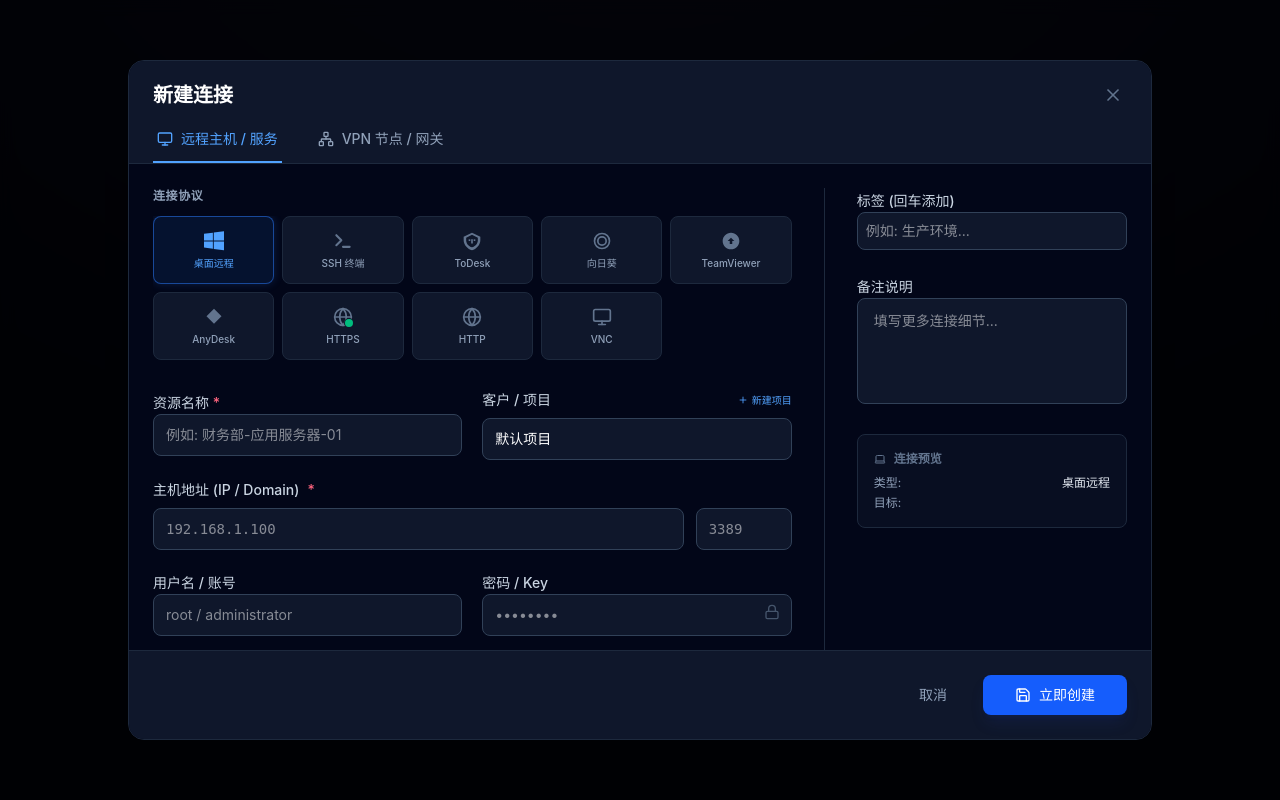
Test: ConnectionModal（T5） › 必填缺失 → toast 校验失败，不提交
The width and height of the screenshot is (1280, 800).
Click the button "立即创建" at (1055, 695), box [983, 675, 1127, 715]
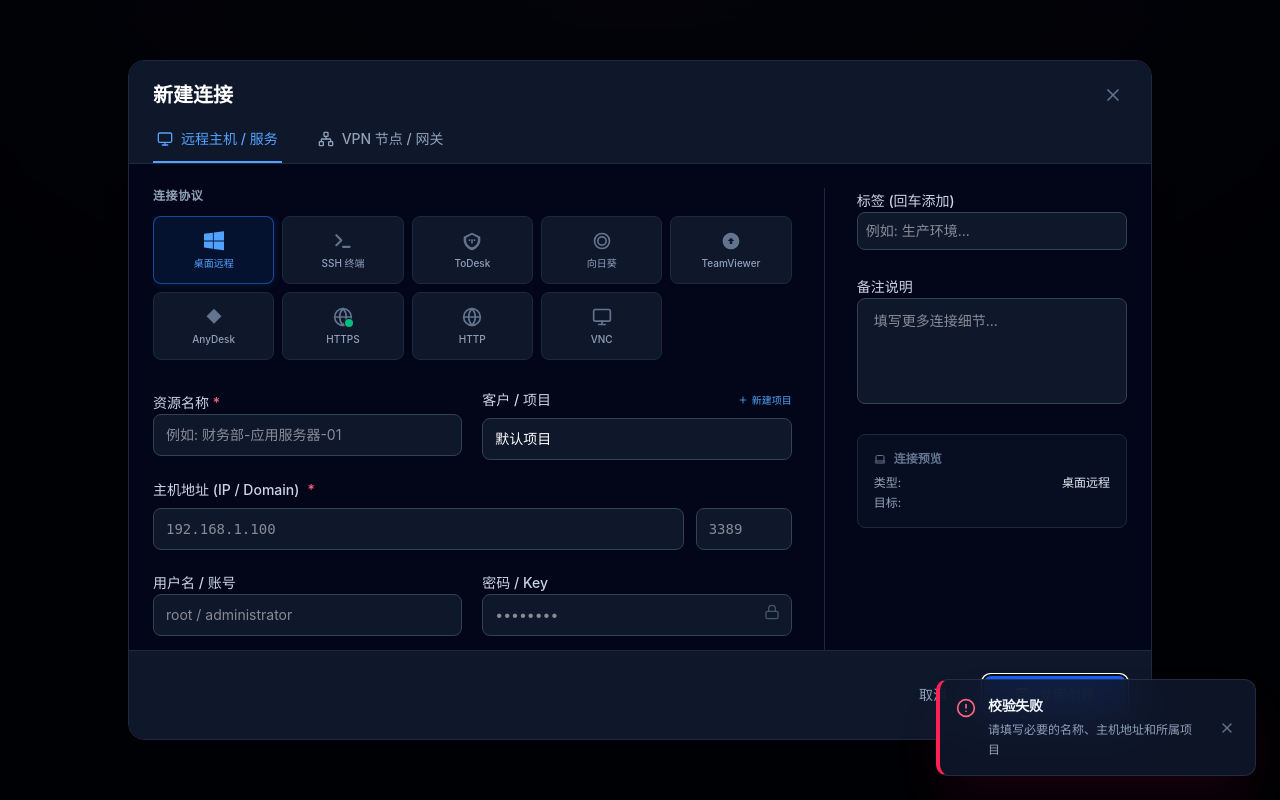
Check: the heading "校验失败" is shown, box [988, 697, 1043, 714]
